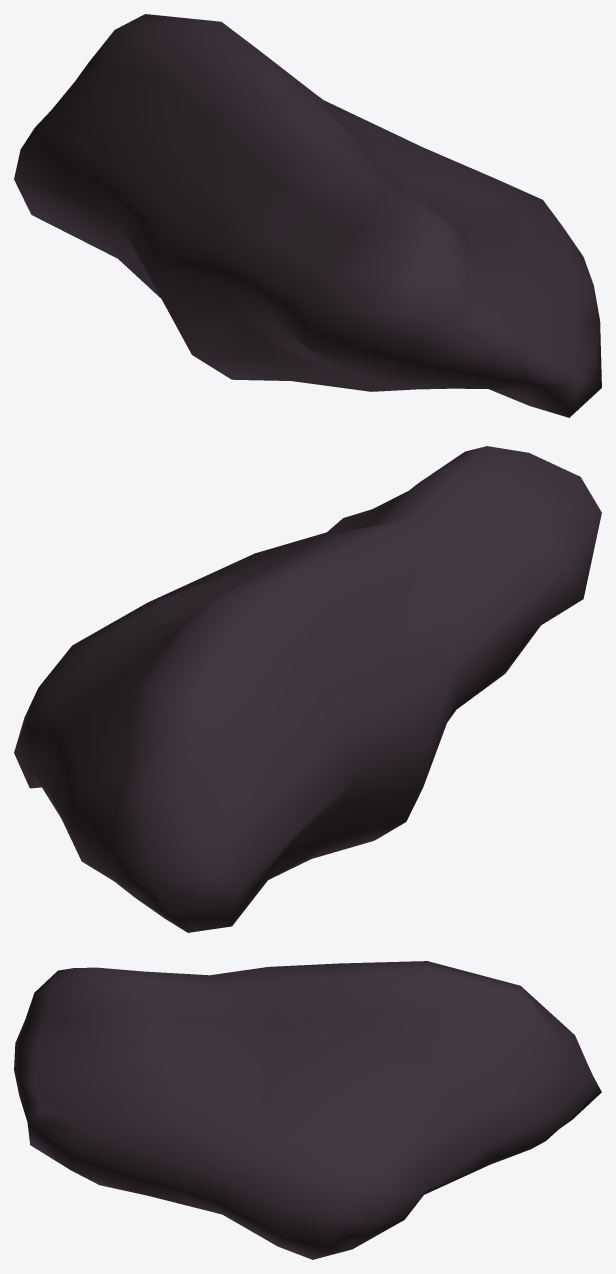
Rendered from Rock.fbx.
The picture shows the model from 3 angles, top to bottom: view 1: azimuth 30°, elevation 25°; view 2: azimuth 150°, elevation 25°; view 3: azimuth 270°, elevation 25°; orthographic projection. The views are drawn at different scales.
Visible parts, largest first — view 1: Rock; view 2: Rock; view 3: Rock.
Part boxes in pixels (bbox=[...]): Rock: bbox=[14, 14, 601, 417]; Rock: bbox=[14, 446, 601, 932]; Rock: bbox=[14, 961, 601, 1259].
Bounding box in the file's own units: 1.22 × 2.22 × 0.8535.
